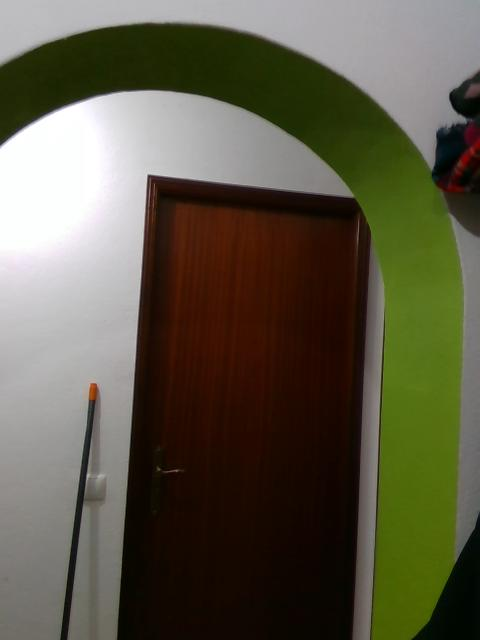door: (139, 195, 351, 639)
